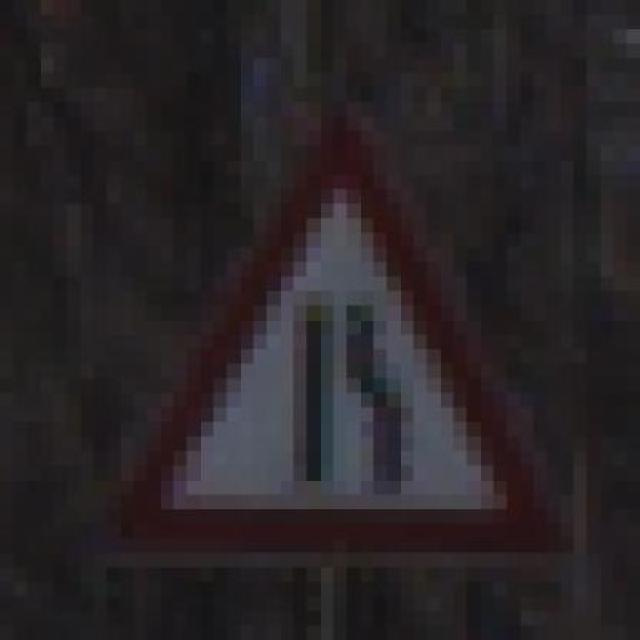-Road narrows on right: (77, 102, 585, 568)
